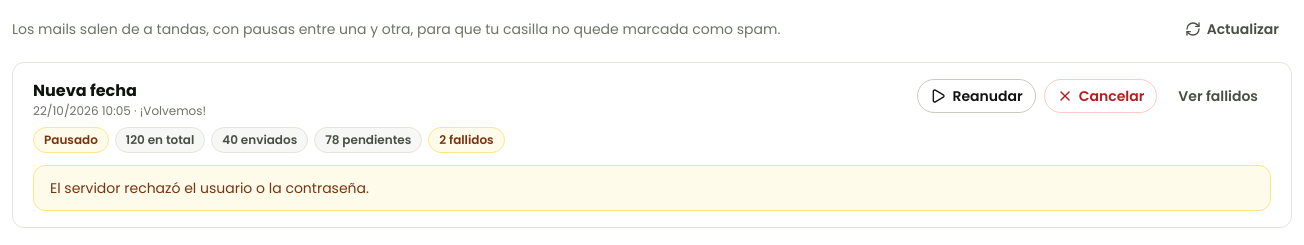
PanelEnvios › un envío pausado por el sistema explica por qué y se puede reanudar
The width and height of the screenshot is (1304, 245).
expect the text "El servidor rechazó el usuario o la contraseña." is shown: met, box x1=33 y1=165 x2=1271 y2=211
Click the button "Reanudar" at (977, 96), box x1=918 y1=79 x2=1036 y2=113
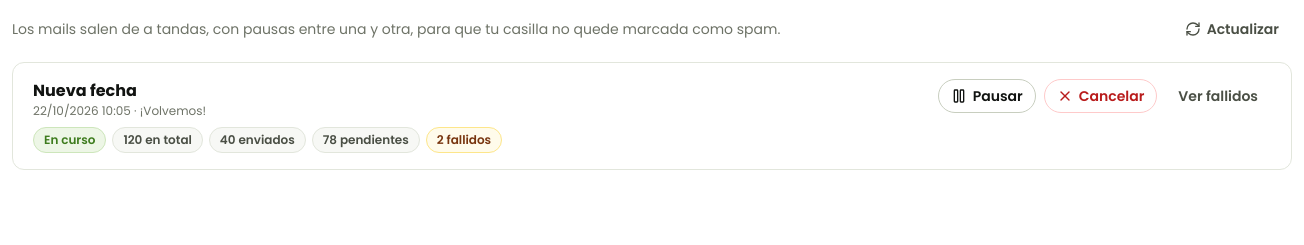
expect the text "En curso" is shown: met, box x1=33 y1=127 x2=106 y2=153
